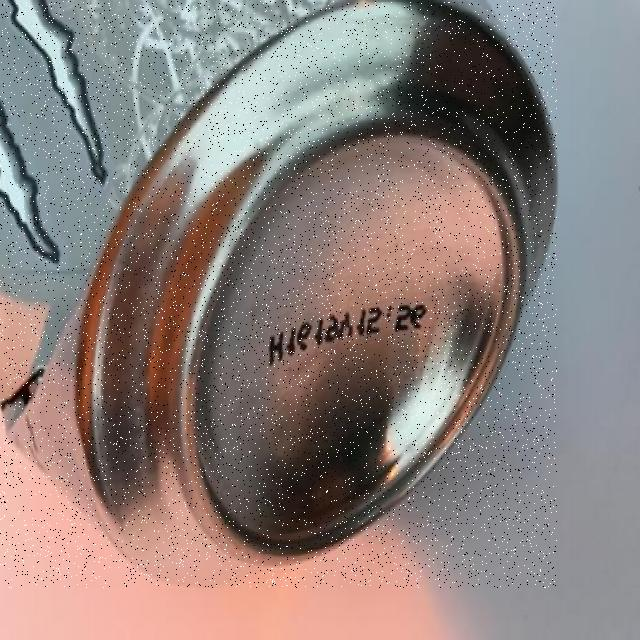metal: (0, 0, 557, 588)
